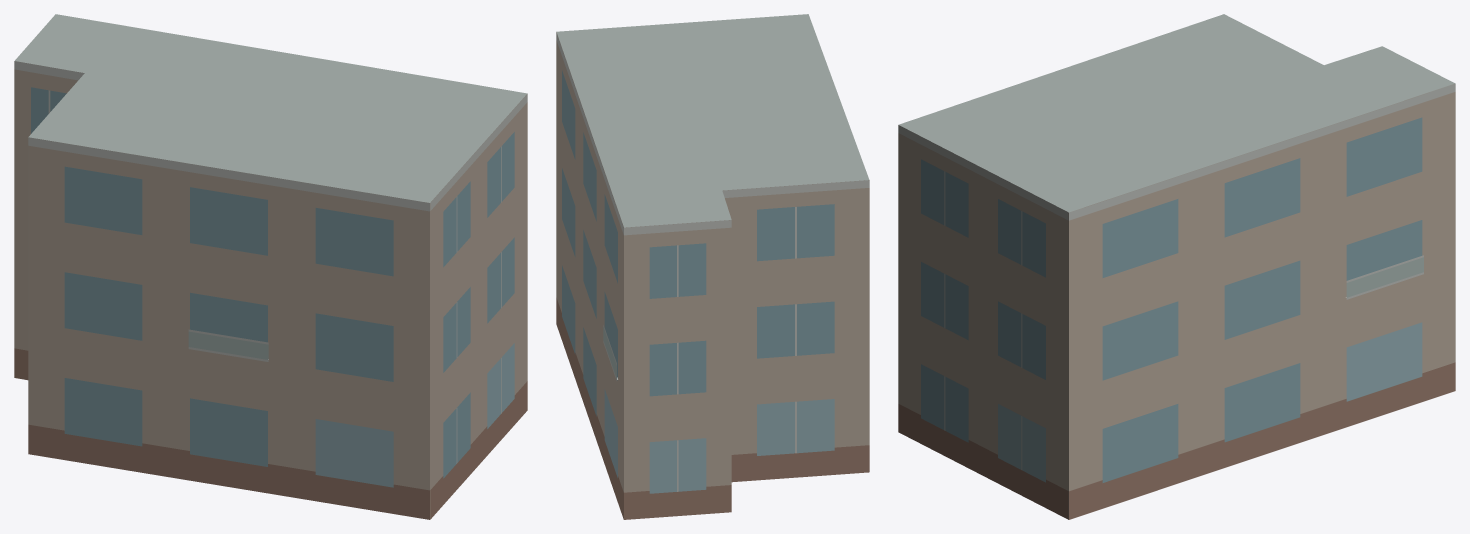
The model's file is survey-upis-32630642.glb.
The picture shows the model from 3 angles, left to right: view 1: azimuth 30°, elevation 25°; view 2: azimuth 150°, elevation 25°; view 3: azimuth 270°, elevation 25°; orthographic projection. The views are drawn at different scales.
Parts seen in each view (by area): view 1: survey-upis-32630642.tmp; view 2: survey-upis-32630642.tmp; view 3: survey-upis-32630642.tmp.
Part boxes in pixels (x1,y1,x2,y2): survey-upis-32630642.tmp: [14, 14, 527, 519]; survey-upis-32630642.tmp: [556, 14, 869, 519]; survey-upis-32630642.tmp: [898, 14, 1455, 519].
Size of the model in its own units: 12.68 by 9.15 by 15.04.
